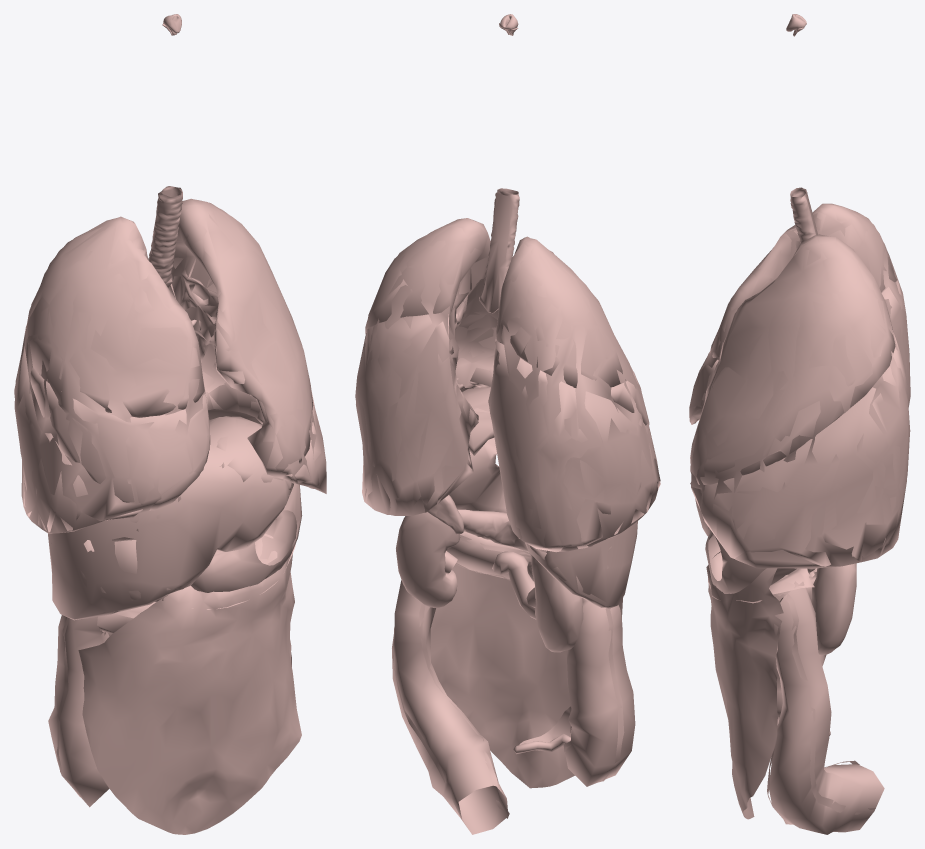
Rendered from lod1-torso-organ.glb.
The picture shows the model from 3 angles, left to right: view 1: azimuth 30°, elevation 25°; view 2: azimuth 150°, elevation 25°; view 3: azimuth 270°, elevation 25°; orthographic projection. The views are drawn at different scales.
Parts seen in each view (by area): view 1: part::Greater omentum, part::Pleura, part::Liver, part::Superior lobe of right lung, part::Superior lobe of left lung, part::Middle lobe of right lung, part::Ascending colon, part::Stomach, part::Inferior lobe of right lung, part::Inferior lobe of left lung, part::Trachea, part::Left posterior lateral segment of liver (II) (+3 smaller); view 2: part::Pleura, part::Greater omentum, part::Inferior lobe of right lung, part::Inferior lobe of left lung, part::Descending colon, part::Ascending colon, part::Superior lobe of right lung, part::Superior lobe of left lung, part::Liver, part::Kidney.l, part::Kidney.r, part::Trachea (+9 smaller); view 3: part::Pleura, part::Superior lobe of left lung, part::Inferior lobe of left lung, part::Descending colon, part::Greater omentum, part::Superior lobe of right lung, part::Kidney.l, part::Stomach, part::Mesocolic taenia, part::Trachea, part::Inferior lobe of right lung, part::Mesocolon (+1 smaller).
Part boxes in pixels (x1,y1,x2,y2): part::Greater omentum: (78,553,301,834); part::Pleura: (14,198,326,532); part::Liver: (48,416,293,620); part::Superior lobe of right lung: (25,217,204,417); part::Superior lobe of left lung: (171,199,313,472); part::Middle lobe of right lung: (30,367,210,510); part::Ascending colon: (48,615,109,807); part::Stomach: (191,483,302,592); part::Inferior lobe of right lung: (14,325,142,533); part::Inferior lobe of left lung: (170,284,326,488); part::Trachea: (148,186,182,287); part::Left posterior lateral segment of liver (II): (209,416,291,489); part::Pleura: (356,218,660,552); part::Greater omentum: (430,563,622,788); part::Inferior lobe of right lung: (488,341,660,551); part::Inferior lobe of left lung: (355,314,486,515); part::Descending colon: (392,580,508,834); part::Ascending colon: (563,598,635,786); part::Superior lobe of right lung: (496,236,629,387); part::Superior lobe of left lung: (365,218,498,386); part::Liver: (462,386,637,608); part::Kidney.l: (396,512,460,607); part::Kidney.r: (531,555,583,652); part::Trachea: (479,188,519,313); part::Pleura: (689,203,910,566); part::Superior lobe of left lung: (690,235,895,484); part::Inferior lobe of left lung: (690,333,910,568); part::Descending colon: (769,581,884,834); part::Greater omentum: (706,551,783,819); part::Superior lobe of right lung: (709,204,896,357); part::Kidney.l: (811,563,856,655); part::Stomach: (705,532,796,593); part::Mesocolic taenia: (774,592,875,814); part::Trachea: (790,187,818,242); part::Inferior lobe of right lung: (881,280,910,406); part::Mesocolon: (708,568,814,603).
Size of the model in its own units: 0.2619 by 0.7546 by 0.1866.
